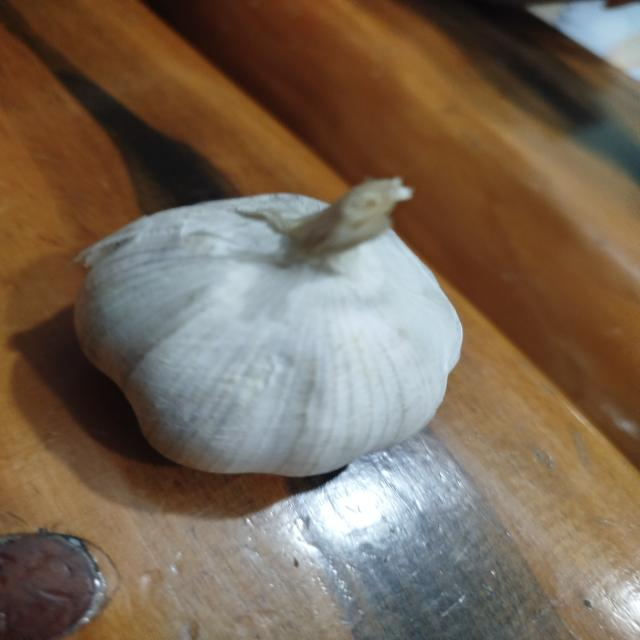garlic: (72, 176, 464, 478)
